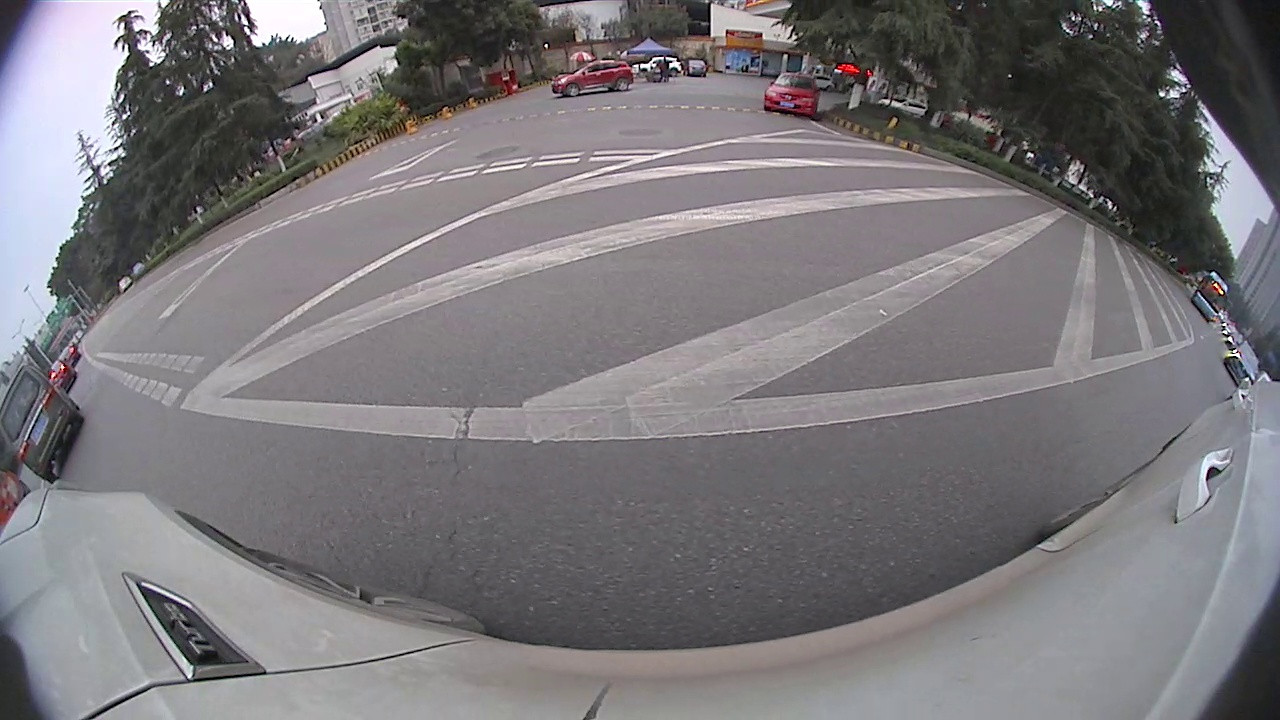bus: (1188, 262, 1235, 325)
car: (1, 362, 90, 482), (551, 54, 639, 97), (761, 69, 825, 121), (1221, 333, 1265, 387)
front: (564, 82, 580, 96)
rear: (614, 78, 629, 92)
